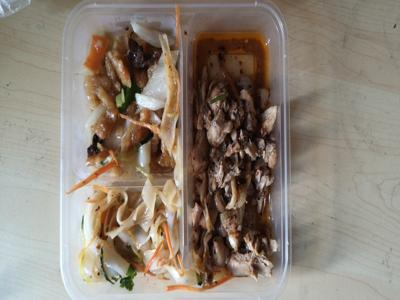r1: (195, 88, 279, 287)
